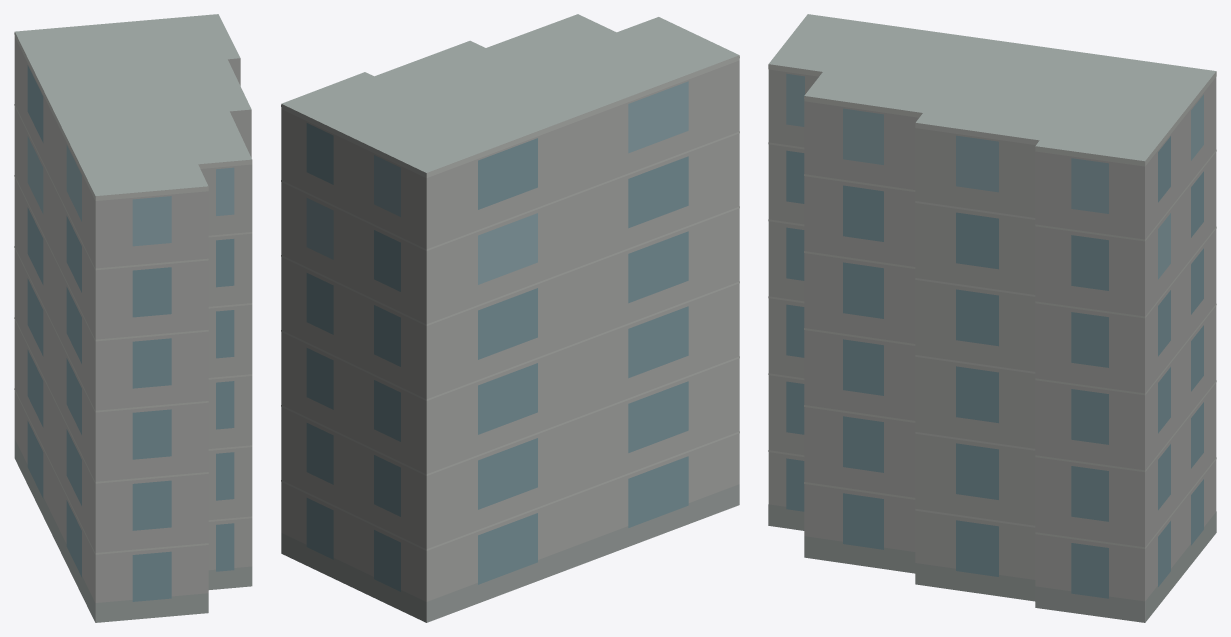
File: survey-upis-32742405.glb
3 renders of one model, left to right at view 1: azimuth 30°, elevation 25°; view 2: azimuth 150°, elevation 25°; view 3: azimuth 270°, elevation 25°, orthographic. The views are drawn at different scales.
Parts seen in each view (by area): view 1: survey-upis-32742405.tmp; view 2: survey-upis-32742405.tmp; view 3: survey-upis-32742405.tmp.
Boxes of the visible parts, bbox=[...] form: survey-upis-32742405.tmp: bbox=[14, 14, 252, 622]; survey-upis-32742405.tmp: bbox=[281, 14, 739, 622]; survey-upis-32742405.tmp: bbox=[768, 14, 1216, 622].
Bounding box in the file's own units: 14.46 × 21.1 × 18.58.
